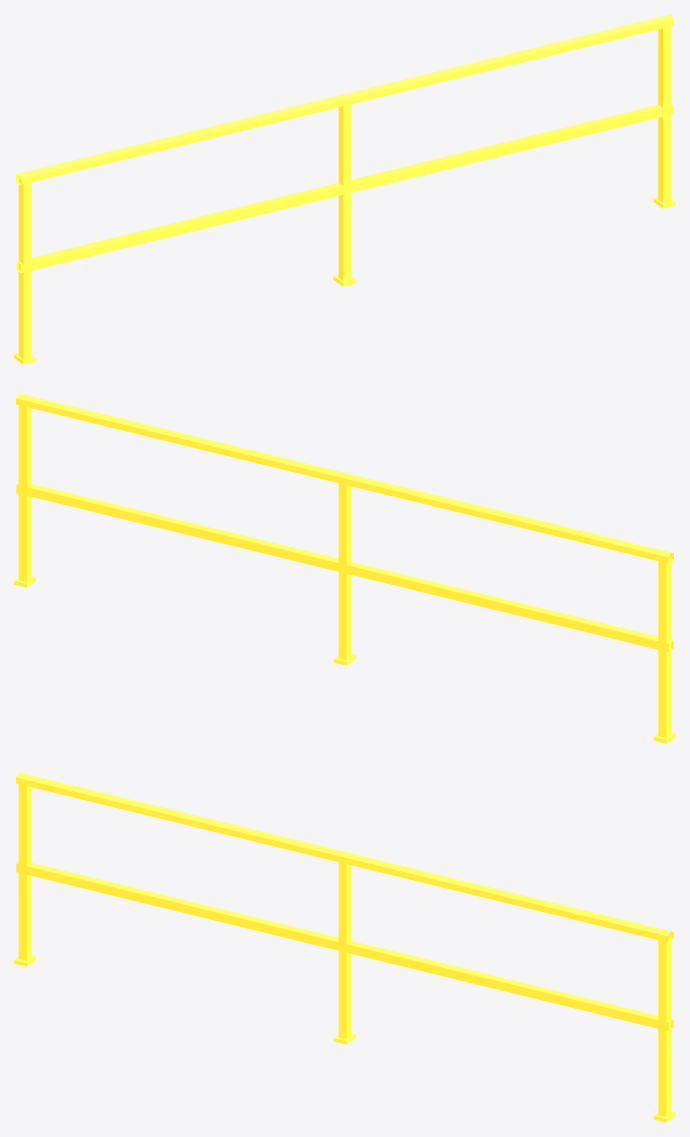
File: ENV_MOD_10_CatwalkRailing.glb
3 views of the same model, one above another, from view 1: azimuth 30°, elevation 25°; view 2: azimuth 150°, elevation 25°; view 3: azimuth 330°, elevation 25° (orthographic).
Parts seen in each view (by area): view 1: SM_ENV_MOD_10_CatwalkRailing; view 2: SM_ENV_MOD_10_CatwalkRailing; view 3: SM_ENV_MOD_10_CatwalkRailing.
Boxes of the visible parts, x1,y1,x2,y2 form: SM_ENV_MOD_10_CatwalkRailing: [14, 14, 675, 364]; SM_ENV_MOD_10_CatwalkRailing: [14, 393, 675, 743]; SM_ENV_MOD_10_CatwalkRailing: [14, 772, 675, 1122].
Size of the model in its own units: 4 by 1.1 by 0.1.
